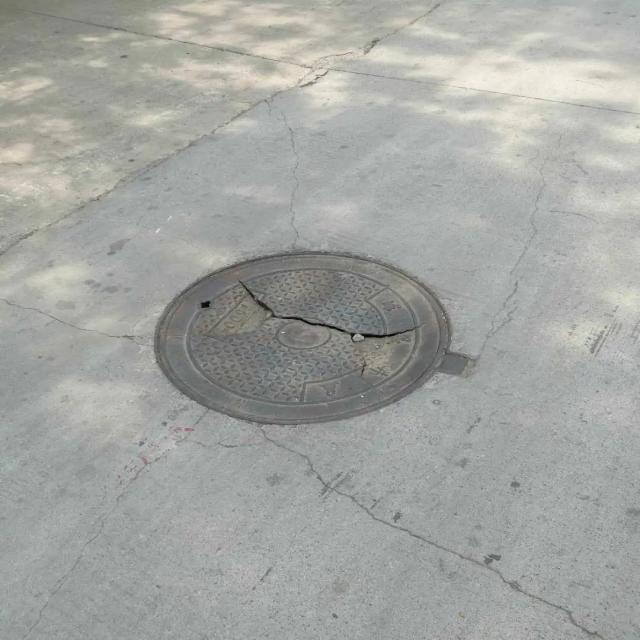manhole: (155, 252, 448, 423)
